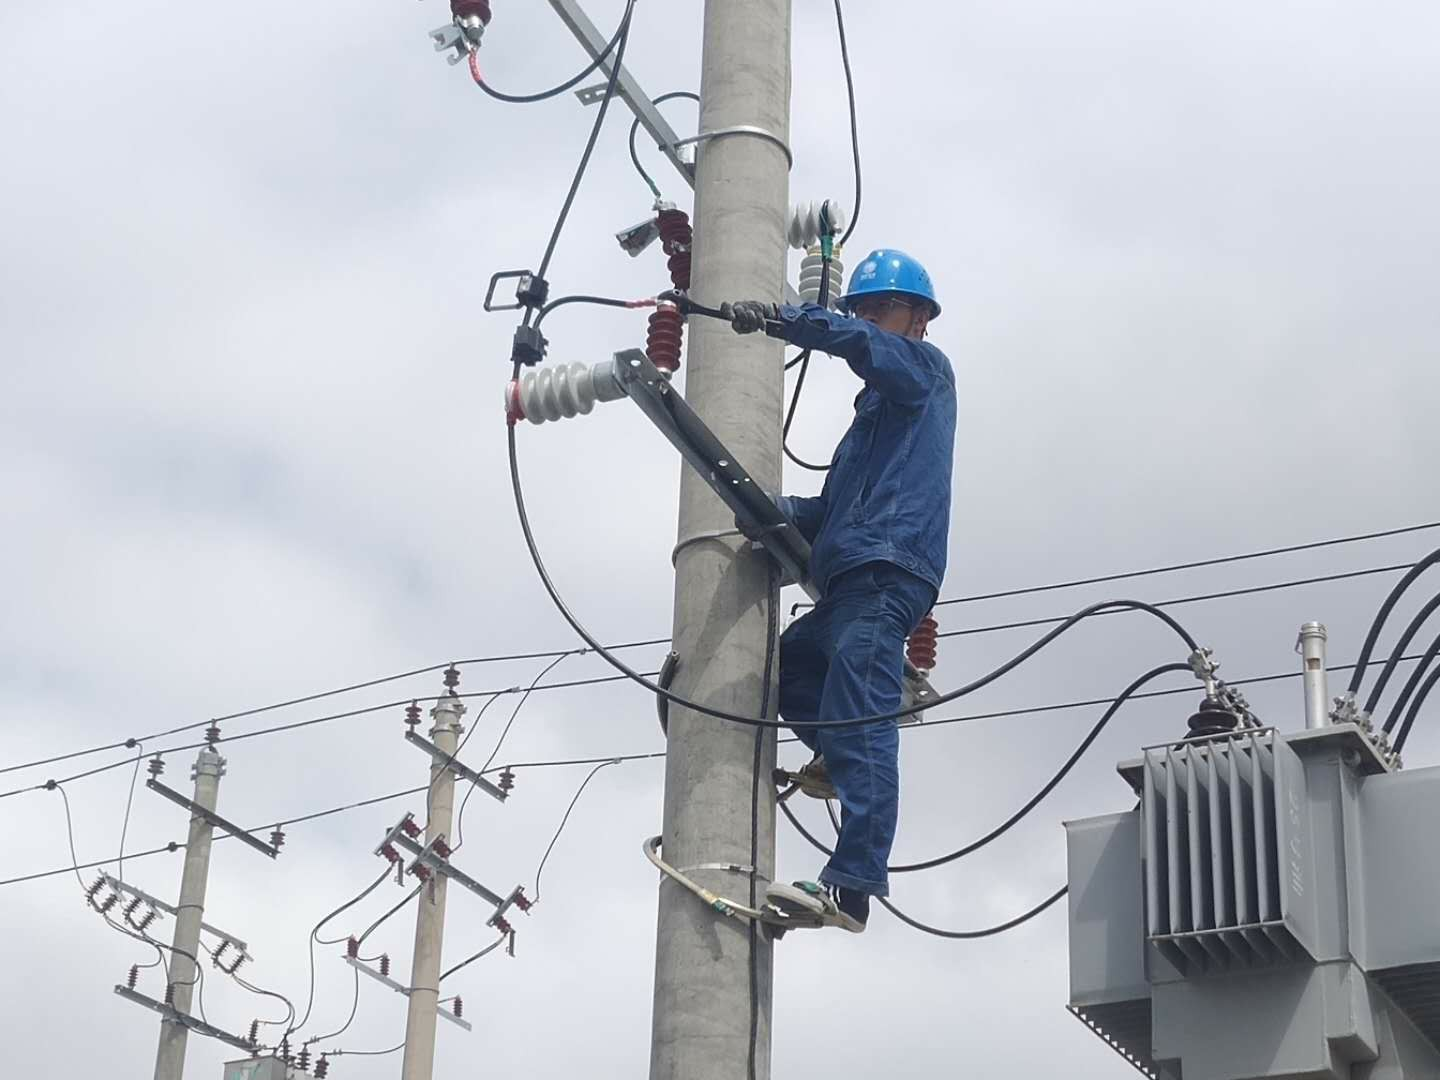hat: (838, 238, 943, 344)
